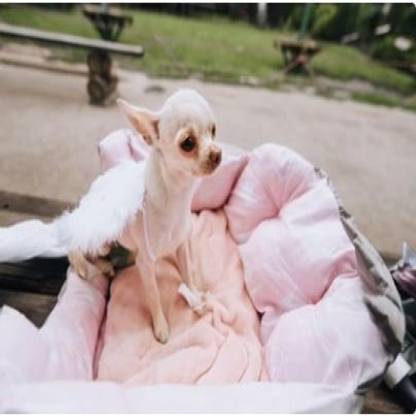chihuahua: (114, 88, 226, 346)
